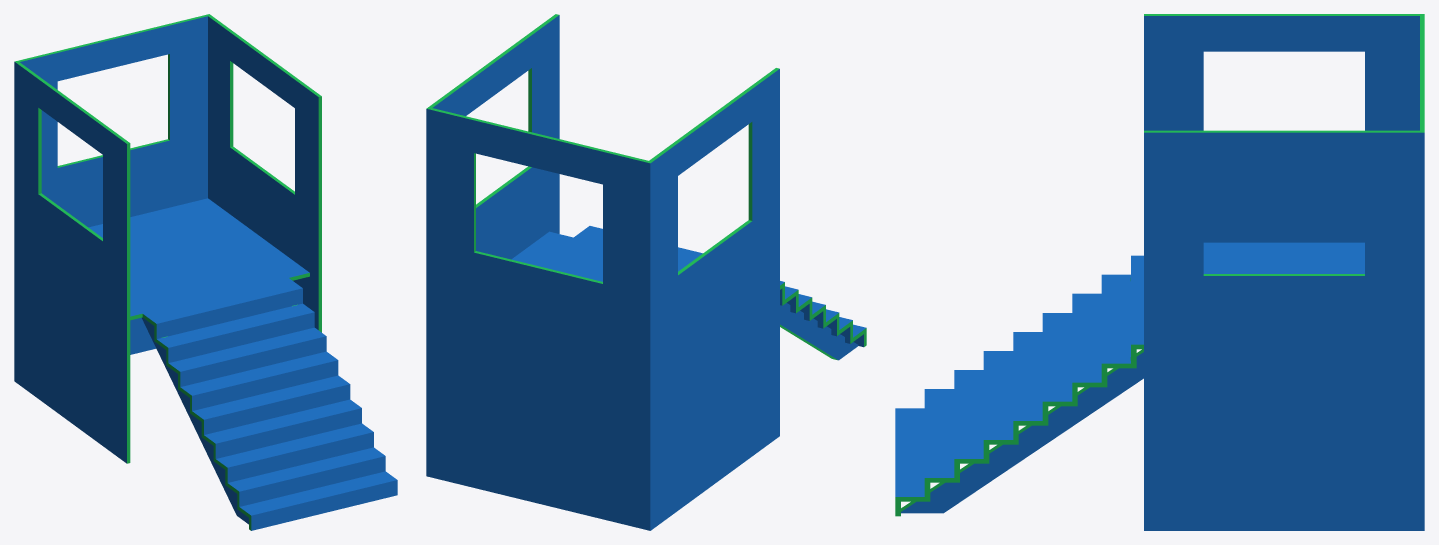
File: SM_plywood_fence_10.fbx
3 renders of one model, left to right at view 1: azimuth 30°, elevation 25°; view 2: azimuth 150°, elevation 25°; view 3: azimuth 270°, elevation 25°, orthographic. The views are drawn at different scales.
Visible parts, largest first — view 1: Cube_4; view 2: Cube_4; view 3: Cube_4.
Part boxes in pixels (x1,y1,x2,y2): Cube_4: (14,14,397,530); Cube_4: (426,14,866,530); Cube_4: (895,14,1424,530).
Bounding box in the file's own units: 200 × 314 × 377.
